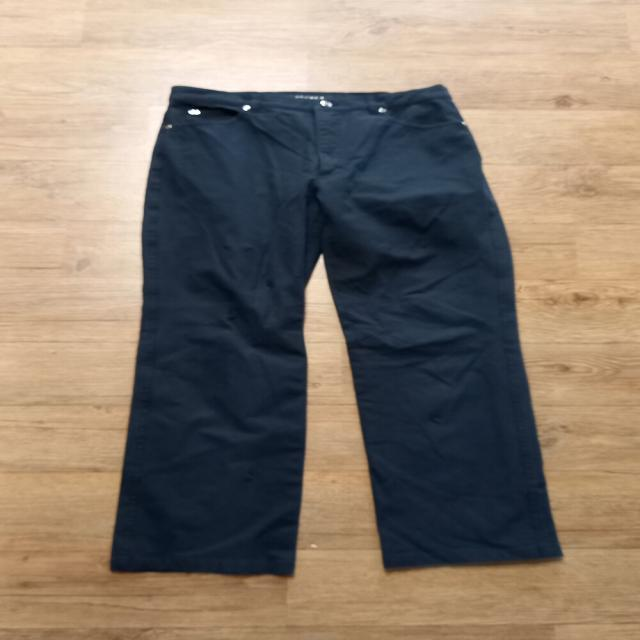long-pants: (112, 84, 565, 578)
